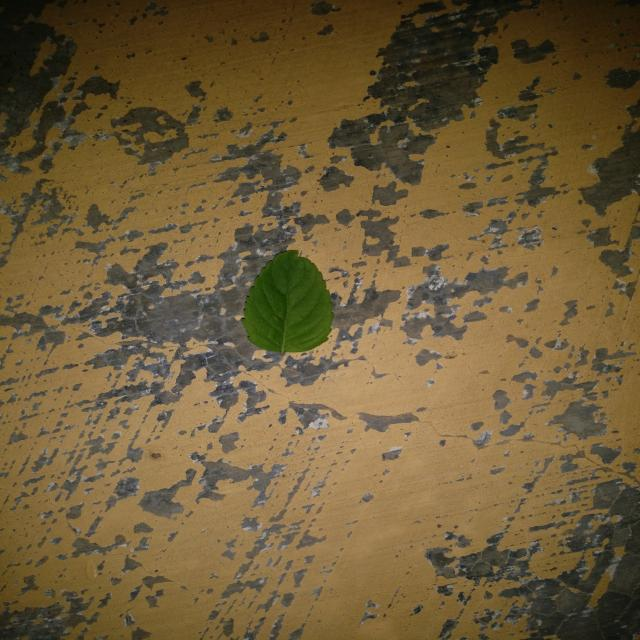tulsi: (242, 251, 333, 354)
